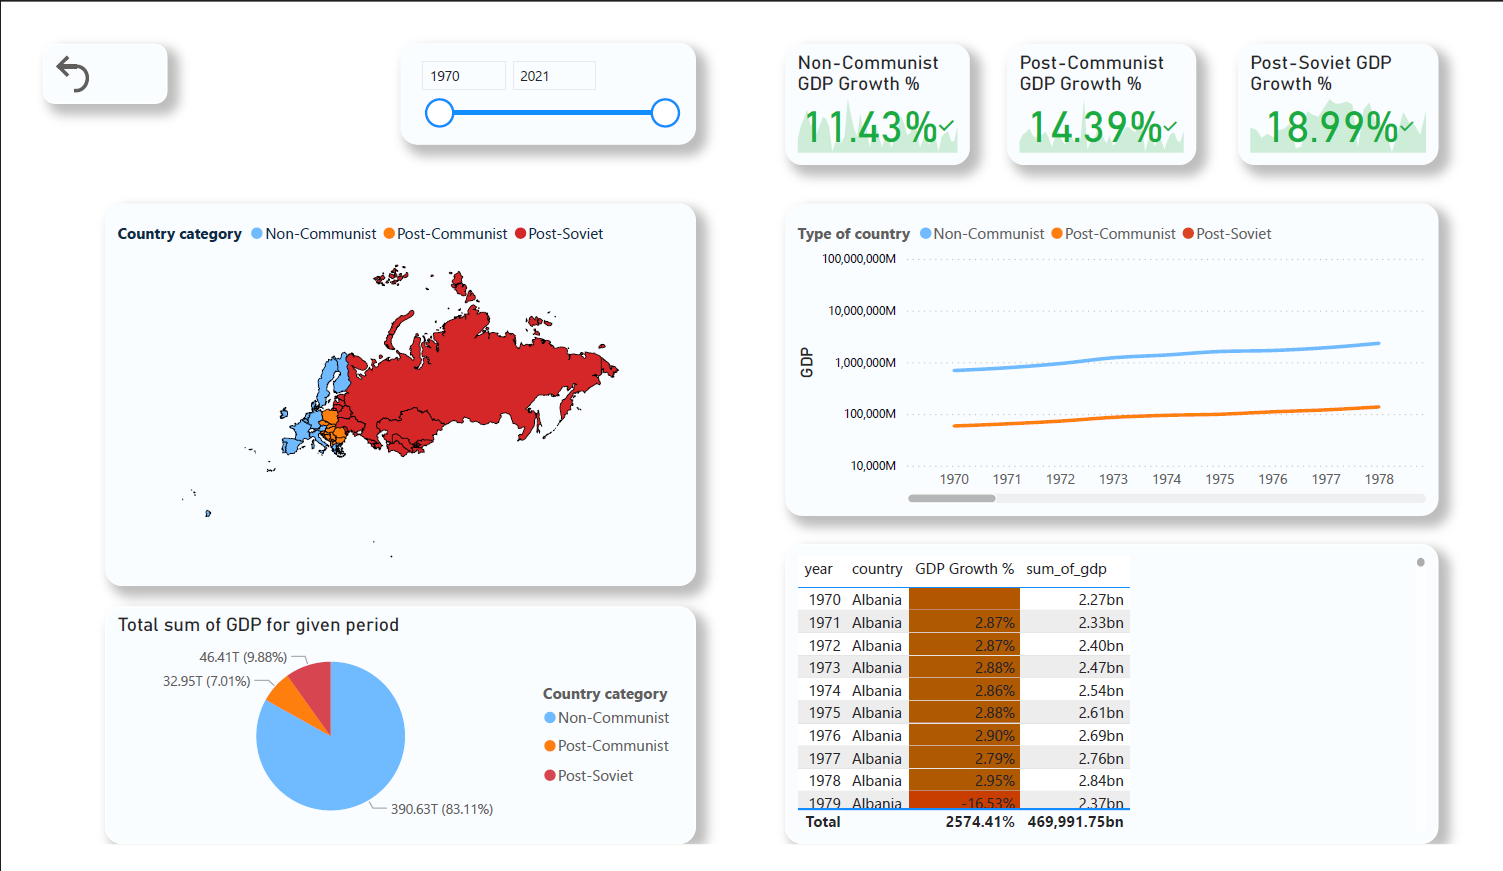

This screenshot's page, from the dashboard's own definition file:
{"tool":"powerbi","page":{"name":"Insight(GDP)","canvas":[1280,720],"ordinal":0},"visuals":[{"type":"lineChart","fields":{"Series":["public countryindexes (2).country_category"],"Y":["public countryindexes (2).sum_of_gdp"],"Category":["public countryindexes (2).year"]},"box":[669,154.2,576.6,276],"z":0},{"type":"slicer","fields":{"Values":["public countryindexes (2).year"]},"box":[329.1,11.8,261.3,90.4],"z":1000},{"type":"shapeMap","title":"Country","fields":{"Category":["public countryindexes (2).country"],"Series":["public countryindexes (2).country_category"],"Value":["CountNonNull(public countryindexes (2).country_category)"]},"box":[67.8,154.2,522.6,337.9],"z":2000},{"type":"kpi","title":" Non-Communist GDP Growth % ","fields":{"Indicator":["public countryindexes (2).GDP Growth %"],"TrendLine":["public countryindexes (2).year"],"Goal":["public countryindexes (2).target"]},"box":[669,12.8,163.1,107.1],"z":4000},{"type":"kpi","title":"Post-Communist GDP Growth % ","fields":{"Indicator":["public countryindexes (2).GDP Growth %"],"TrendLine":["public countryindexes (2).year"],"Goal":["public countryindexes (2).target"]},"box":[865.4,12.8,167,107.1],"z":5000},{"type":"kpi","title":"Post-Soviet GDP Growth % ","fields":{"Indicator":["public countryindexes (2).GDP Growth %"],"TrendLine":["public countryindexes (2).year"],"Goal":["public countryindexes (2).target"]},"box":[1068.8,12.8,176.8,107.1],"z":6000},{"type":"actionButton","box":[12.8,12.8,110,53],"z":6001},{"type":"tableEx","fields":{"Values":["public countryindexes (2).year","public countryindexes (2).country","public countryindexes (2).GDP Growth %","public countryindexes (2).sum_of_gdp"]},"box":[669,454.8,576.6,265.2],"z":6002},{"type":"pieChart","title":"Total sum of GDP for given period","fields":{"Y":["public countryindexes (2).sum_of_gdp"],"Category":["public countryindexes (2).country_category"]},"box":[67.8,509.8,522.6,210.2],"z":6003}]}

Visuals, with their boxes in screenshot pixels (x1, y1, x2, y2), scaled from the page's 1280x720 canvas onto the 1503x871 screenshot:
lineChart - public countryindexes (2).country_category x public countryindexes (2).sum_of_gdp: select_region(786, 187, 1463, 520)
slicer - public countryindexes (2).year: select_region(386, 14, 693, 124)
"Country" shapeMap: select_region(80, 187, 693, 595)
" Non-Communist GDP Growth % " kpi: select_region(786, 15, 977, 145)
"Post-Communist GDP Growth % " kpi: select_region(1016, 15, 1212, 145)
"Post-Soviet GDP Growth % " kpi: select_region(1255, 15, 1463, 145)
actionButton: select_region(15, 15, 144, 80)
tableEx - public countryindexes (2).year x public countryindexes (2).country: select_region(786, 550, 1463, 870)
"Total sum of GDP for given period" pieChart: select_region(80, 617, 693, 870)
